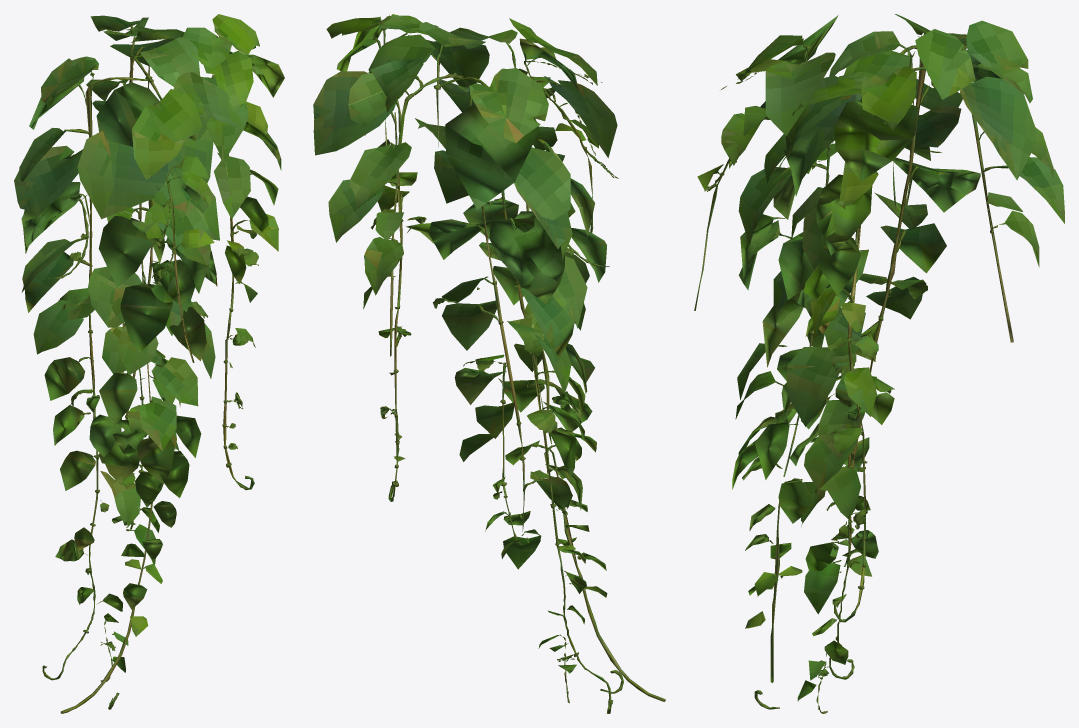
The model's file is vine-branch.lod2.glb.
3 renders of one model, left to right at view 1: azimuth 30°, elevation 25°; view 2: azimuth 150°, elevation 25°; view 3: azimuth 270°, elevation 25°, orthographic. The views are drawn at different scales.
Parts seen in each view (by area): view 1: Object_4; view 2: Object_4; view 3: Object_4.
Part boxes in pixels (<box>): Object_4: <box>14,14,284,713</box>; Object_4: <box>313,14,665,713</box>; Object_4: <box>694,14,1064,713</box>.
Bounding box in the file's own units: 1.29 × 3 × 1.37.
Materials: 1 (1 with a texture image).
